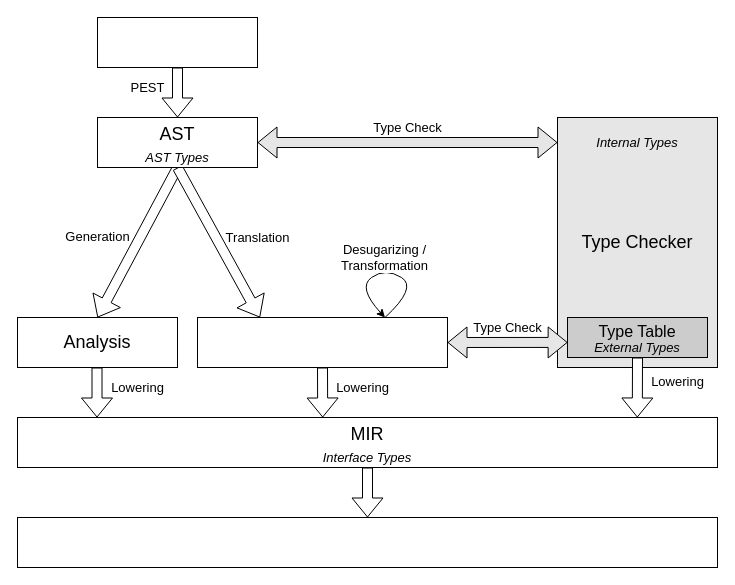
This 735x585 diagram has some shape labels left out. The centre of each missing label's shape, as x and y in pixels:
"Backends" belongs at [367,542].
"HIR" belongs at [322,342].
"Specification" belongs at [177,42].
